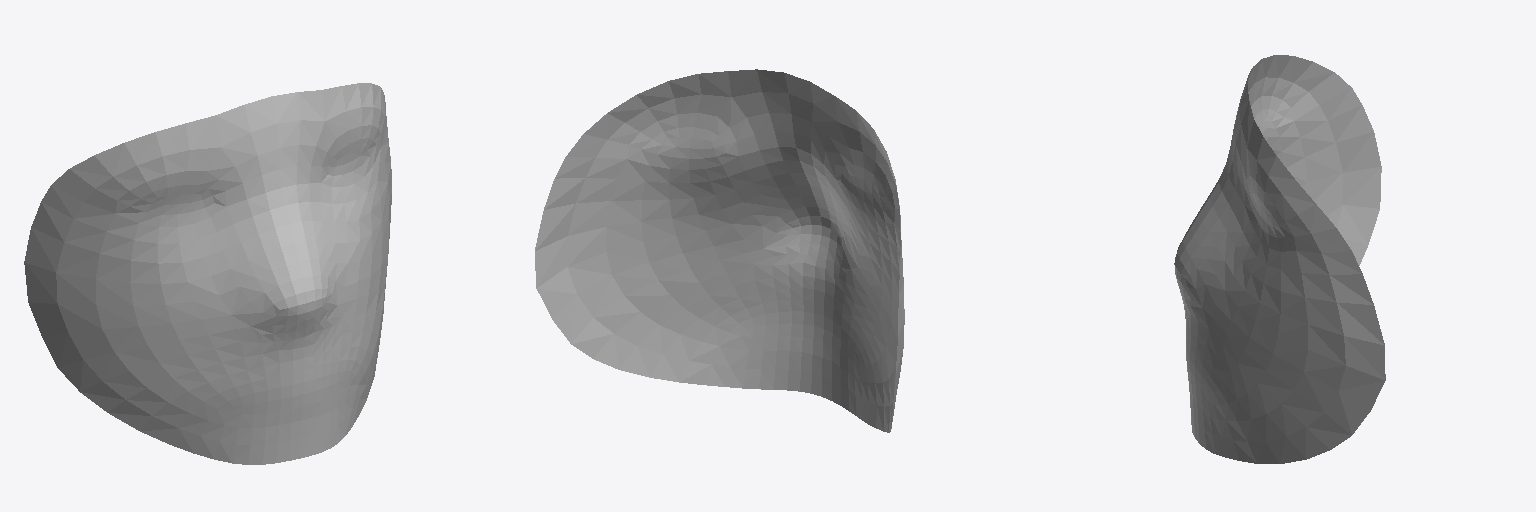
The model's file is foosball_face.obj.
3 renders of one model, left to right at view 1: azimuth 30°, elevation 25°; view 2: azimuth 150°, elevation 25°; view 3: azimuth 270°, elevation 25°, orthographic.
Parts seen in each view (by area): view 1: Cylinder_Cylinder.001; view 2: Cylinder_Cylinder.001; view 3: Cylinder_Cylinder.001.
Boxes of the visible parts, box(x1,y1,x2,y2) form: Cylinder_Cylinder.001: box(24, 83, 391, 464); Cylinder_Cylinder.001: box(535, 69, 904, 432); Cylinder_Cylinder.001: box(1174, 55, 1385, 463).
Size of the model in its own units: 1.34 by 1.21 by 0.6749.